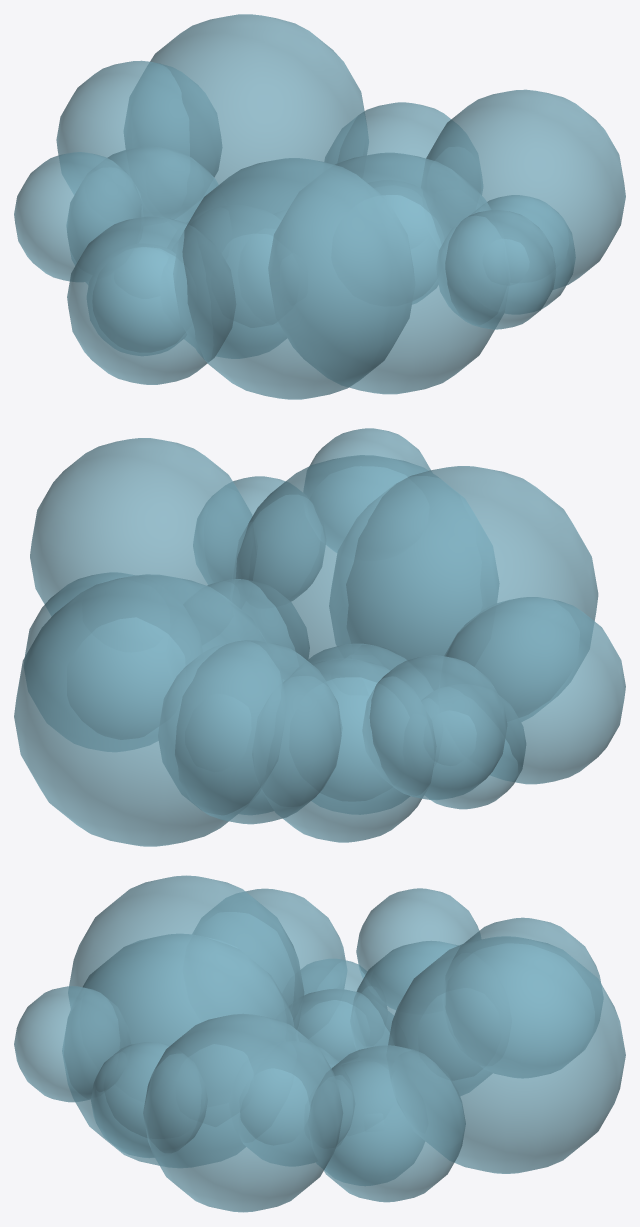
File: UnderBubble.fbx
3 views of the same model, one above another, from view 1: azimuth 30°, elevation 25°; view 2: azimuth 150°, elevation 25°; view 3: azimuth 270°, elevation 25° (orthographic). The views are drawn at different scales.
Visible parts, largest first — view 1: UnderBubble; view 2: UnderBubble; view 3: UnderBubble.
Part boxes in pixels (x1,y1,x2,y2): UnderBubble: (14,14,625,399); UnderBubble: (14,428,625,846); UnderBubble: (14,875,625,1212).
Size of the model in its own units: 8721 by 4063 by 9100.
